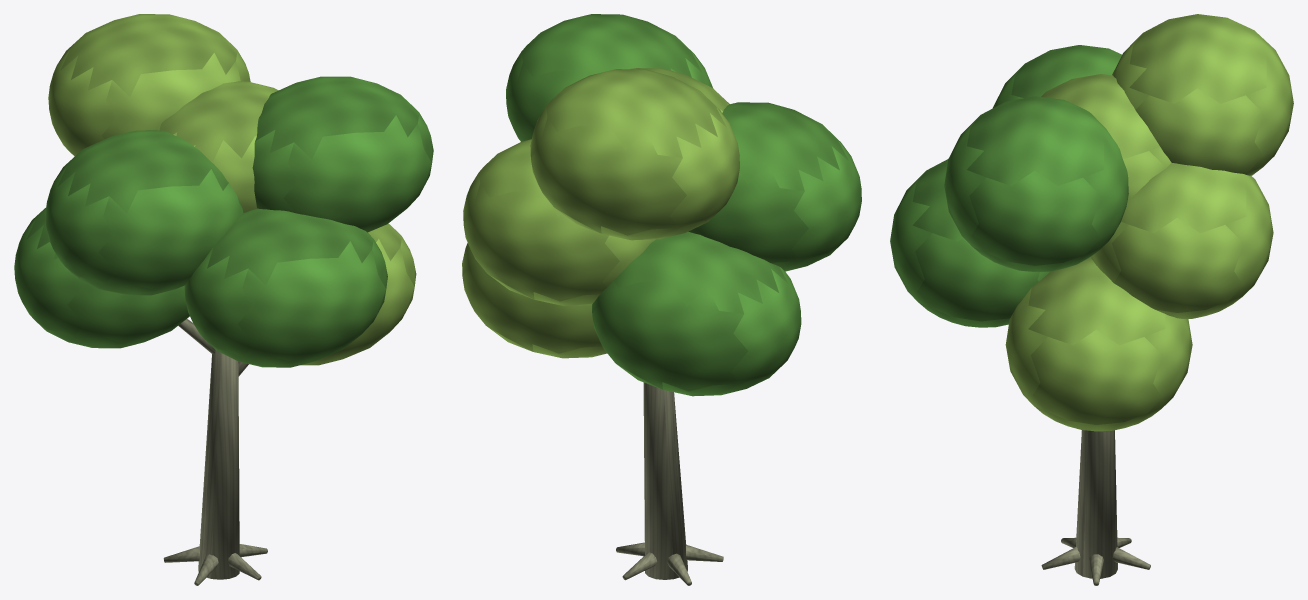
File: beech_mature_b.glb
The picture shows the model from 3 angles, left to right: view 1: azimuth 30°, elevation 25°; view 2: azimuth 150°, elevation 25°; view 3: azimuth 270°, elevation 25°; orthographic projection. The views are drawn at different scales.
Parts seen in each view (by area): view 1: beech_mature_b.001; view 2: beech_mature_b.001; view 3: beech_mature_b.001.
Part boxes in pixels (x1=…): beech_mature_b.001: x1=14, y1=14, x2=433, y2=585; beech_mature_b.001: x1=462, y1=14, x2=861, y2=585; beech_mature_b.001: x1=890, y1=14, x2=1293, y2=585.
Bounding box in the file's own units: 9.45 × 13.03 × 8.94.
1 material, 1 textured.
